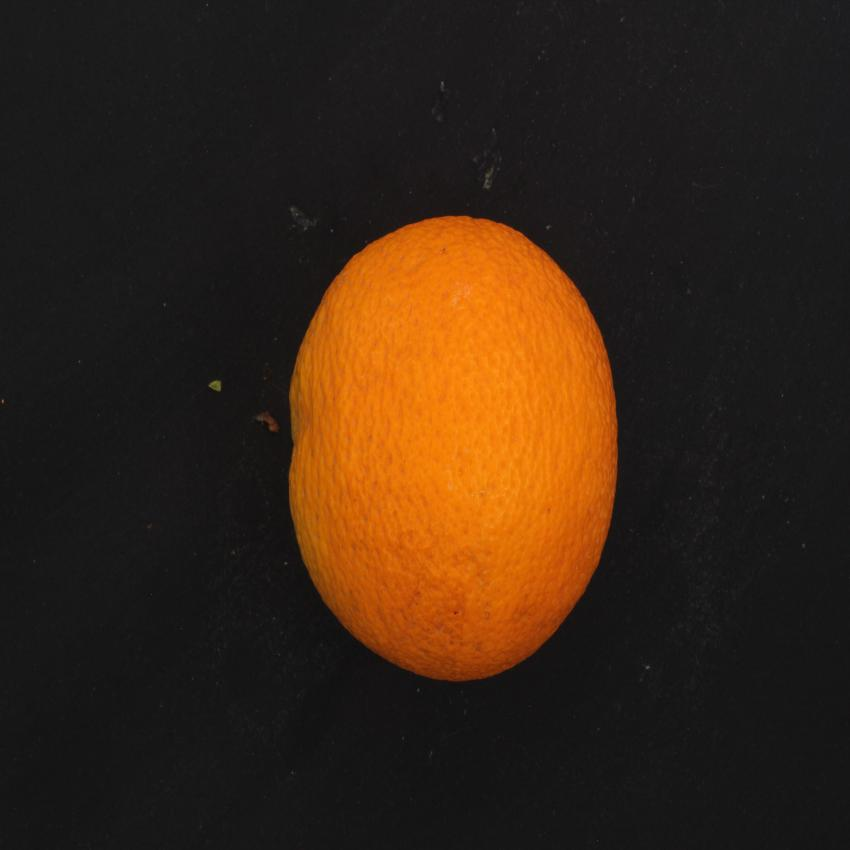Buen estado: (284, 198, 622, 695)
